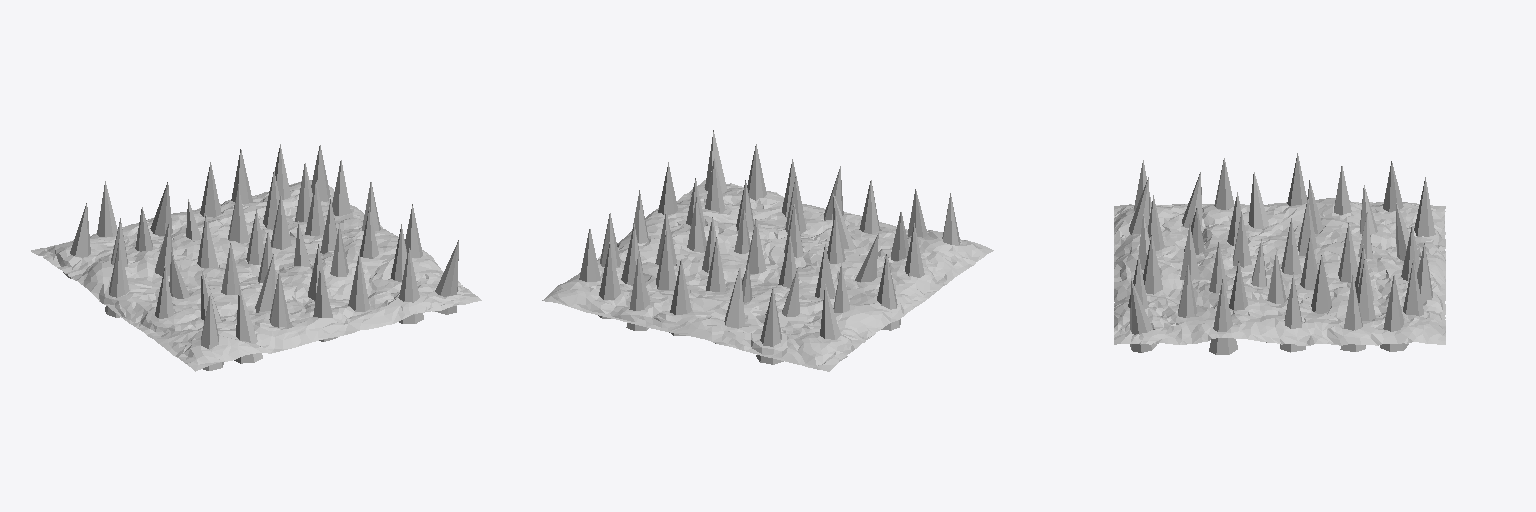
File: spike.obj
3 renders of one model, left to right at view 1: azimuth 30°, elevation 25°; view 2: azimuth 150°, elevation 25°; view 3: azimuth 270°, elevation 25°, orthographic.
Parts seen in each view (by area): view 1: LP_Mesh.007_Plane.003; view 2: LP_Mesh.007_Plane.003; view 3: LP_Mesh.007_Plane.003.
Boxes of the visible parts, x1,y1,x2,y2 form: LP_Mesh.007_Plane.003: [31, 144, 481, 371]; LP_Mesh.007_Plane.003: [542, 130, 993, 371]; LP_Mesh.007_Plane.003: [1114, 153, 1445, 354].
Bounding box in the file's own units: 2.01 × 0.5555 × 2.01.